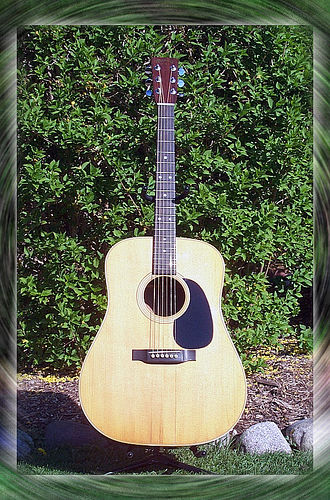guitar: (74, 56, 250, 449)
